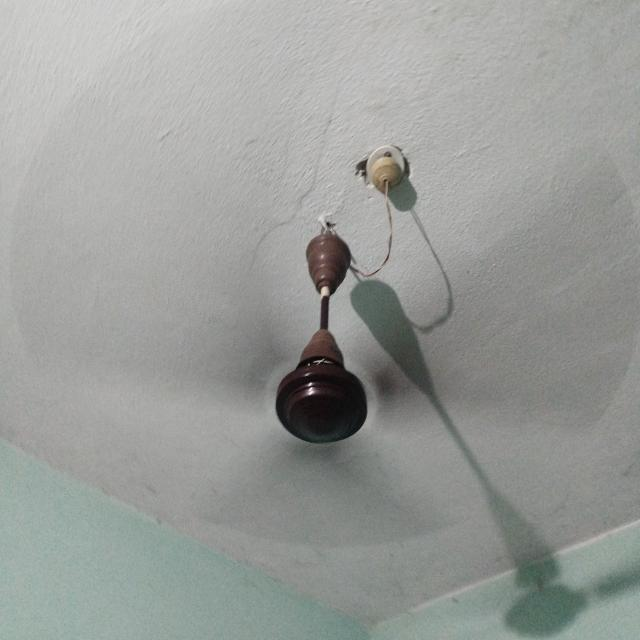fan_on: (20, 47, 619, 545)
